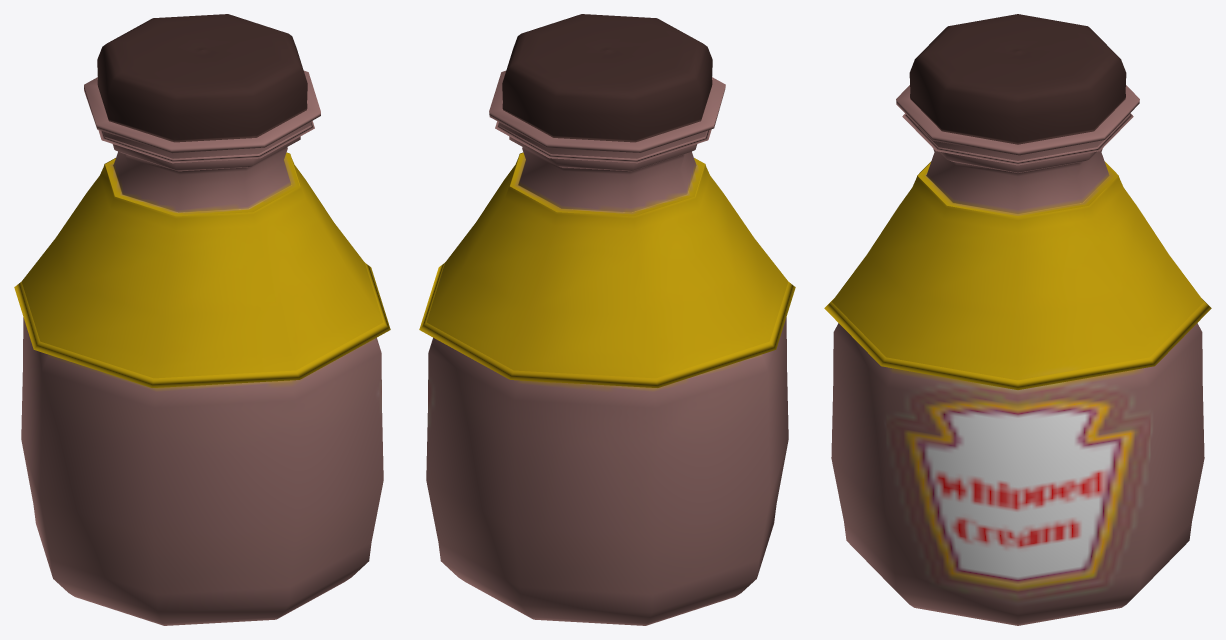
Rendered from Whipped Cream Glass Container.fbx.
3 renders of one model, left to right at view 1: azimuth 30°, elevation 25°; view 2: azimuth 150°, elevation 25°; view 3: azimuth 270°, elevation 25°, orthographic.
Visible parts, largest first — view 1: Whipped_Cream_Glass_Container; view 2: Whipped_Cream_Glass_Container; view 3: Whipped_Cream_Glass_Container.
Part boxes in pixels (bbox=[...]): Whipped_Cream_Glass_Container: bbox=[14, 14, 390, 625]; Whipped_Cream_Glass_Container: bbox=[419, 14, 795, 625]; Whipped_Cream_Glass_Container: bbox=[824, 14, 1211, 625].
Bounding box in the file's own units: 16.42 × 24.68 × 16.42.
1 material, 1 textured.
